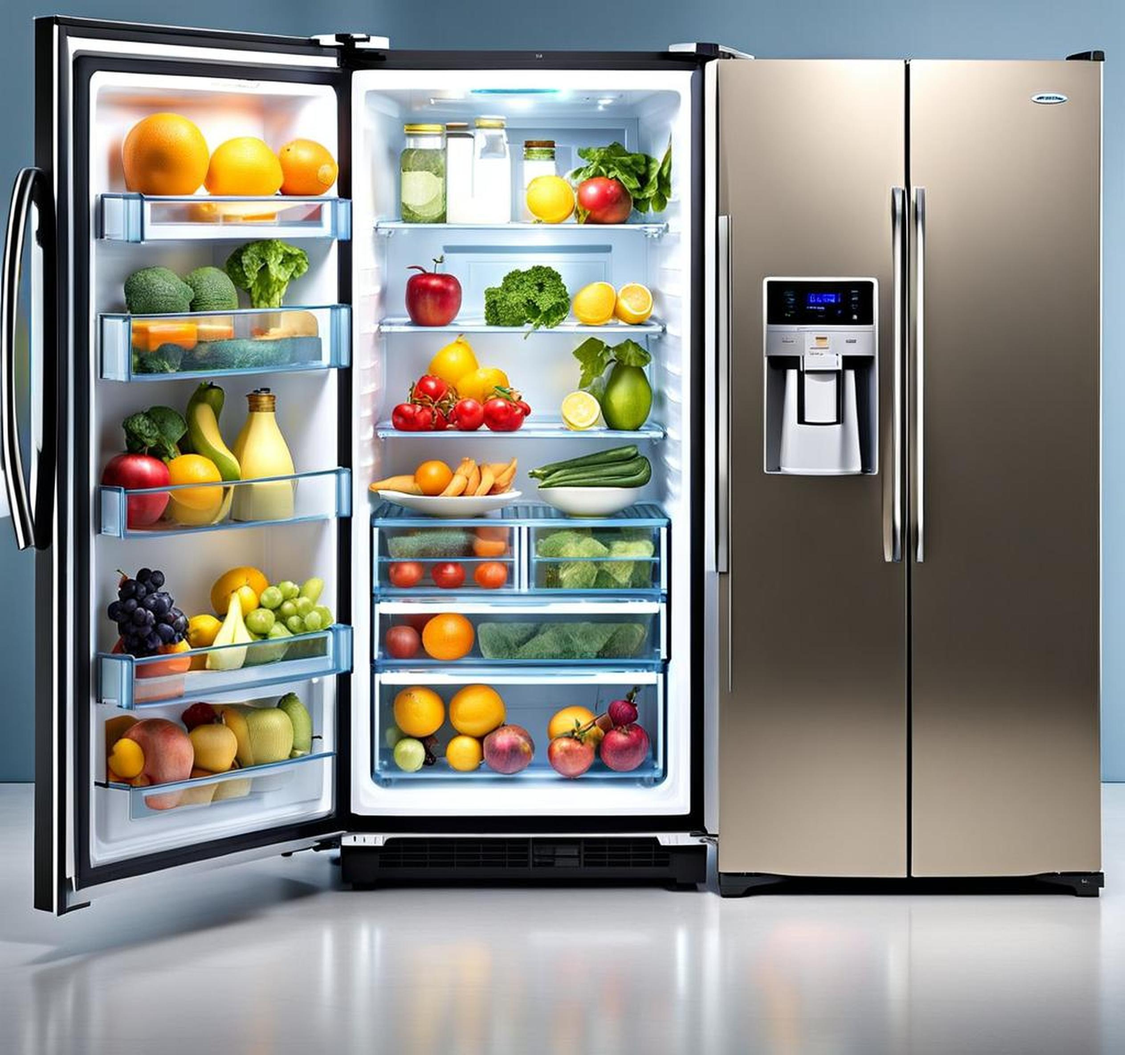apple: (408, 231, 482, 338)
grapes: (118, 563, 213, 659)
onion: (478, 723, 557, 779)
orange: (126, 113, 213, 197), (207, 138, 285, 196), (420, 615, 475, 663), (570, 281, 617, 325), (415, 461, 454, 495)
